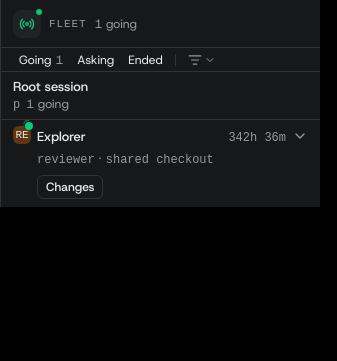
the fleet column › says nothing at all for a run recorded before runs carried a directory
The image size is (337, 361).
What coordinates should you click on to do the following:
click the button "RE Explorer 342h 36m"
I would click on:
 (61, 136)
Its box is [13,128,308,146].
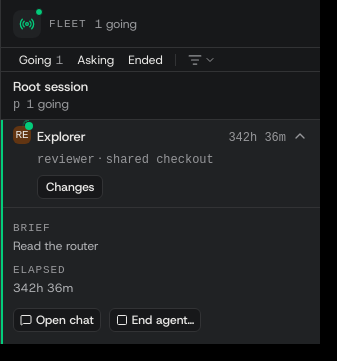
Expected: the element showing "Brief Read the router Elapsed 342h 36m" is shown, [13,222,99,296]
